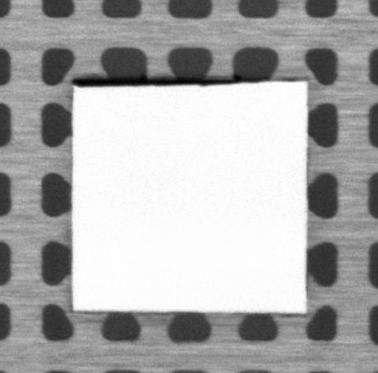DIE_BROKEN: (71, 75, 248, 89)
